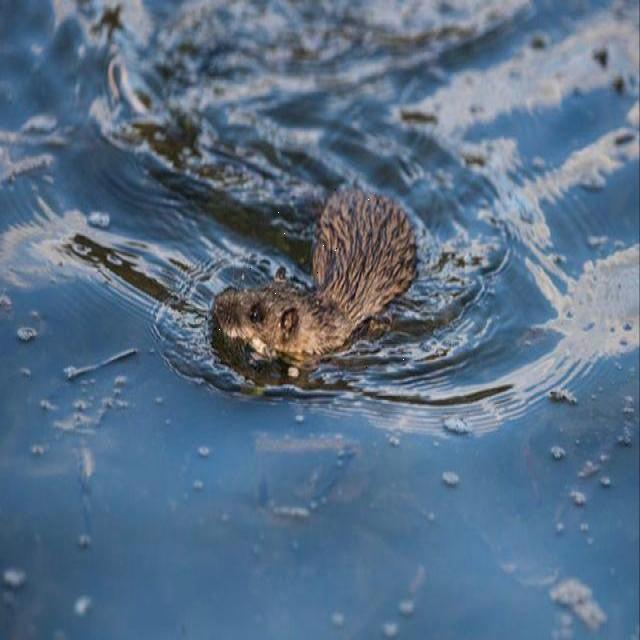rat: (212, 186, 420, 369)
